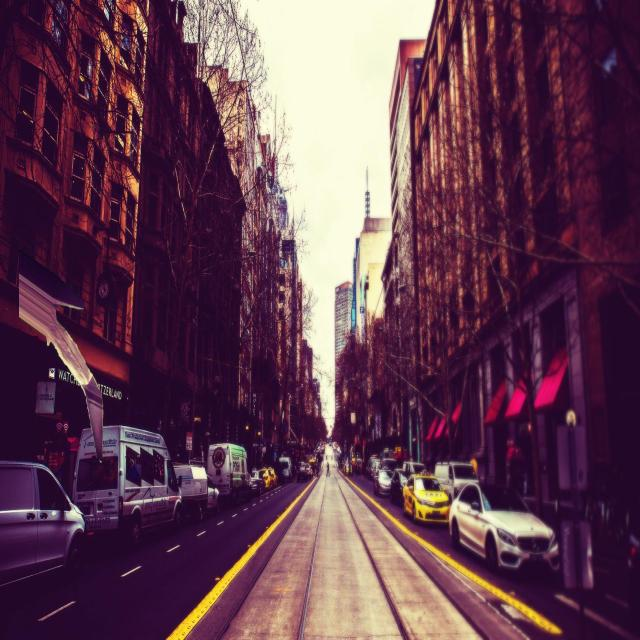airplane: (19, 273, 104, 461)
